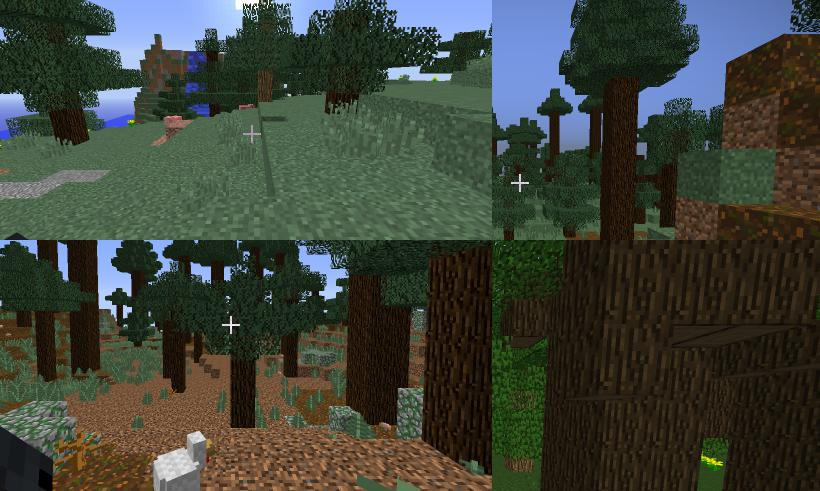minecraft-blocks: (577, 241, 690, 491), (707, 332, 820, 491), (430, 243, 492, 470), (691, 241, 820, 330), (348, 277, 413, 432), (604, 81, 638, 240), (74, 241, 100, 378), (231, 359, 256, 426), (167, 326, 190, 393), (50, 109, 88, 147), (39, 310, 56, 382), (663, 165, 681, 227), (327, 92, 358, 116), (284, 329, 299, 377), (550, 114, 562, 161), (260, 71, 273, 103), (211, 107, 220, 117)
